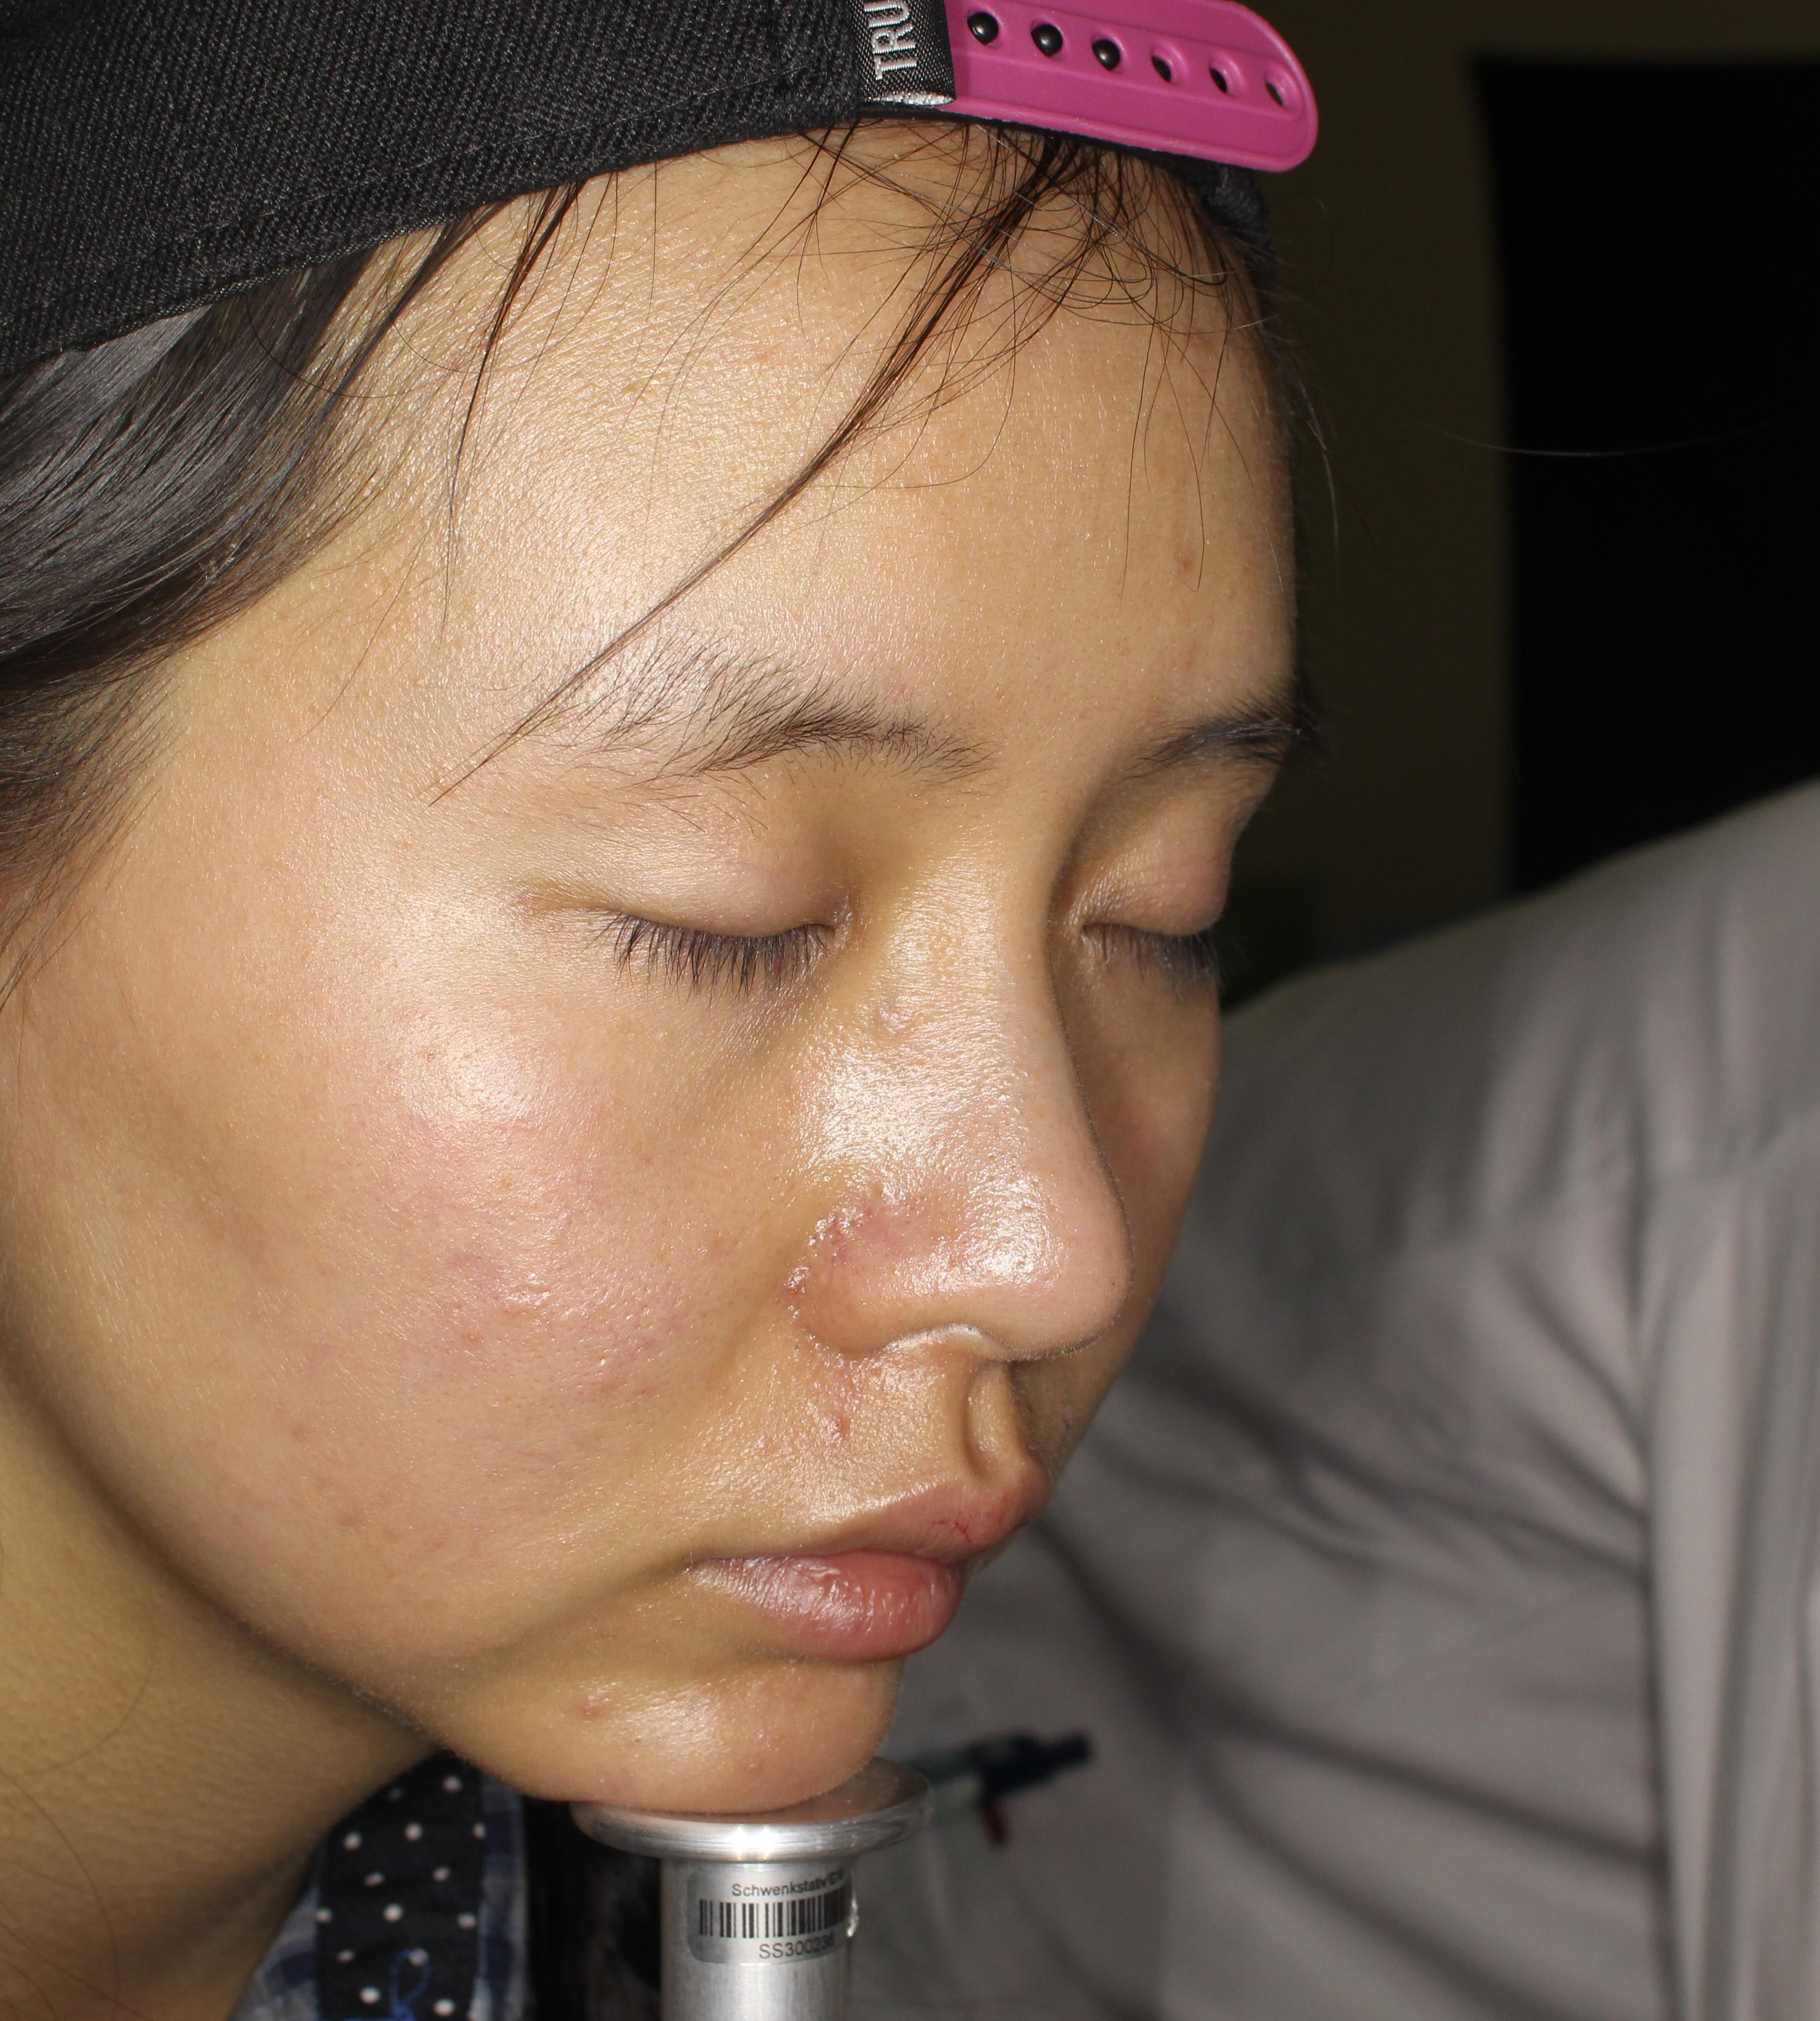fore: (829, 1168, 889, 1262), (562, 1670, 629, 1742), (566, 1343, 643, 1396)
